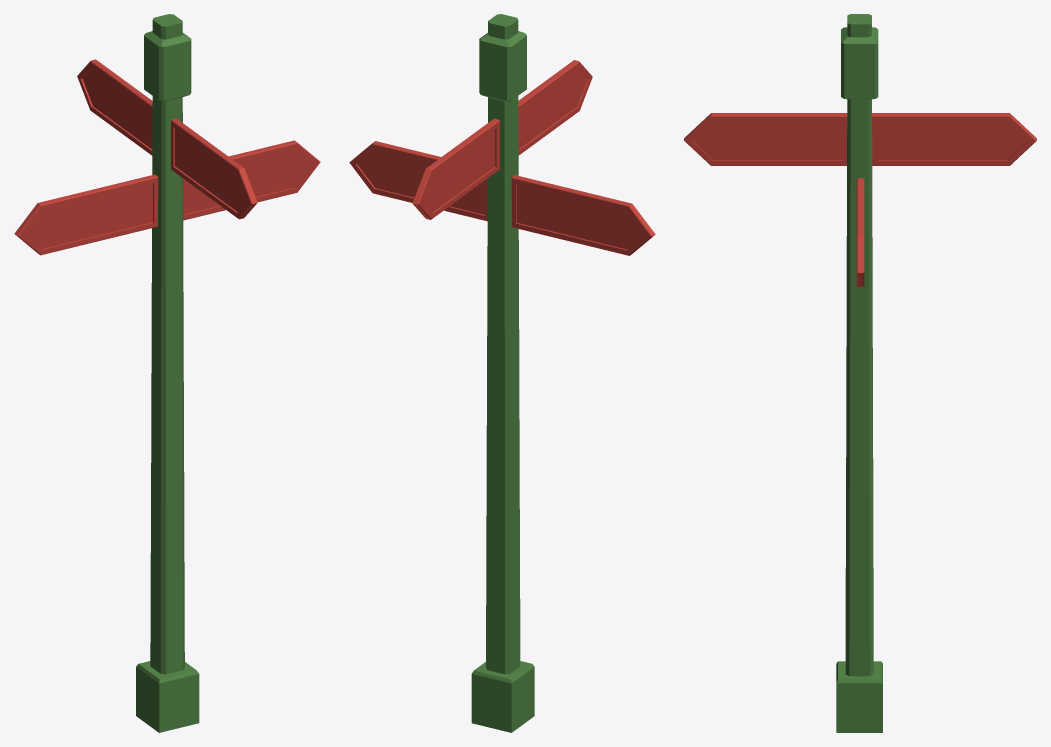
Rendered from streetsign_a_458.gltf.
3 views of the same model, side by side, from view 1: azimuth 30°, elevation 25°; view 2: azimuth 150°, elevation 25°; view 3: azimuth 270°, elevation 25° (orthographic).
Visible parts, largest first — view 1: streetsign_a003; view 2: streetsign_a003; view 3: streetsign_a003.
Boxes of the visible parts, <box> form: streetsign_a003: <box>14,14,320,732</box>; streetsign_a003: <box>349,14,655,732</box>; streetsign_a003: <box>684,14,1036,732</box>.
Size of the model in its own units: 0.8721 by 1.92 by 0.8721.
Materials: 1 (1 with a texture image).
